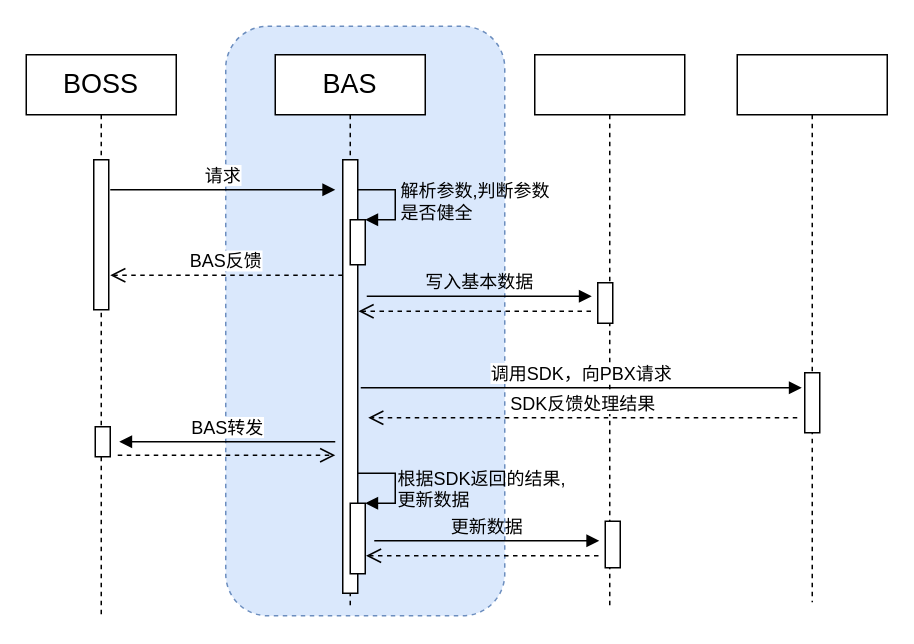
Image size: 914x644. Some labels were removed from this diagram. The shapes that lost their labels are listed below. From the top down, each one's box as (x1, y1, x2, y2) in pixels, then its label:
(533, 53, 685, 610): DB
(736, 53, 887, 602): PBX的SDK
